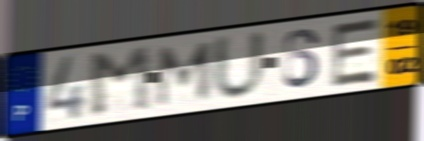4: (43, 53, 90, 124)
6: (282, 28, 322, 92)
E: (328, 15, 383, 90)
M: (87, 44, 155, 121), (153, 39, 216, 109)
U: (211, 27, 269, 103)
